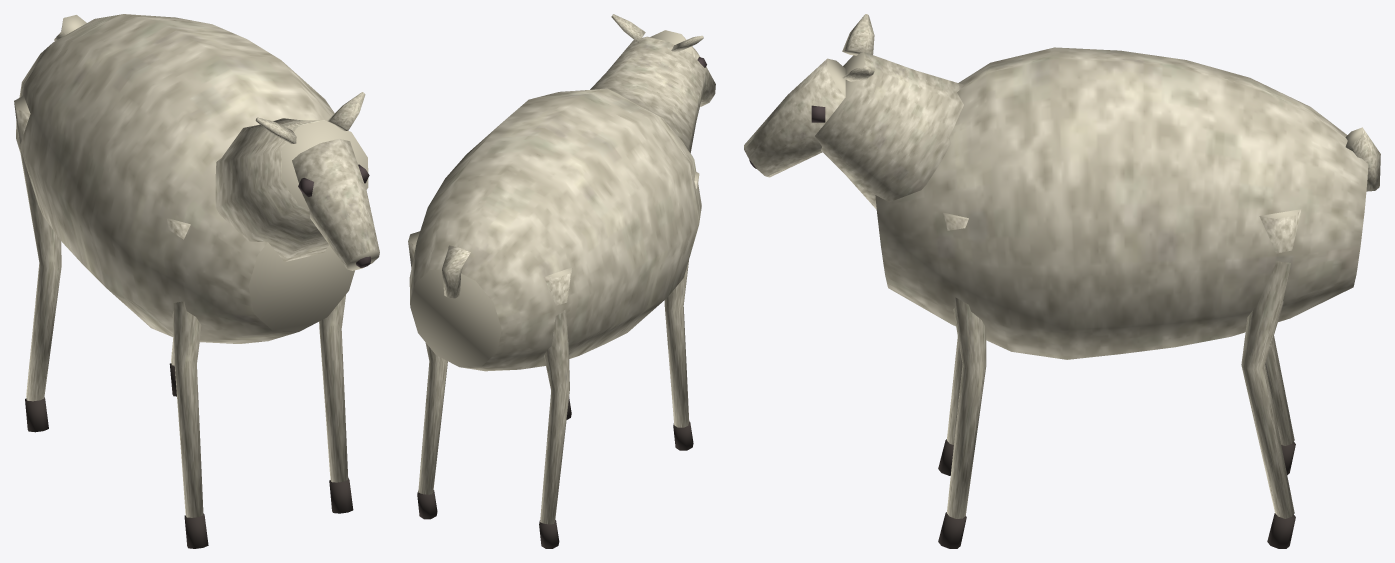
File: sheep.fbx
3 renders of one model, left to right at view 1: azimuth 30°, elevation 25°; view 2: azimuth 150°, elevation 25°; view 3: azimuth 270°, elevation 25°, orthographic. The views are drawn at different scales.
Visible parts, largest first — view 1: sheep__body, sheep__legFR, sheep__legRR, sheep__legFL; view 2: sheep__body, sheep__legRR, sheep__legRL, sheep__legFR; view 3: sheep__body, sheep__legRL, sheep__legFL, sheep__legRR, sheep__legFR.
Boxes of the visible parts, x1,y1,x2,y2 form: sheep__body: [16, 14, 379, 343]; sheep__legFR: [167, 218, 208, 548]; sheep__legRR: [14, 96, 61, 432]; sheep__legFL: [319, 295, 353, 513]; sheep__body: [409, 14, 715, 371]; sheep__legRR: [539, 267, 572, 548]; sheep__legRL: [408, 231, 447, 519]; sheep__legFR: [664, 171, 699, 450]; sheep__body: [744, 14, 1380, 359]; sheep__legRL: [1241, 209, 1301, 548]; sheep__legFL: [938, 212, 986, 548]; sheep__legRR: [1265, 336, 1295, 474]; sheep__legFR: [938, 336, 962, 475].
Bounding box in the file's own units: 0.6453 × 1.13 × 1.39.
Materials: 3 (1 with a texture image).
